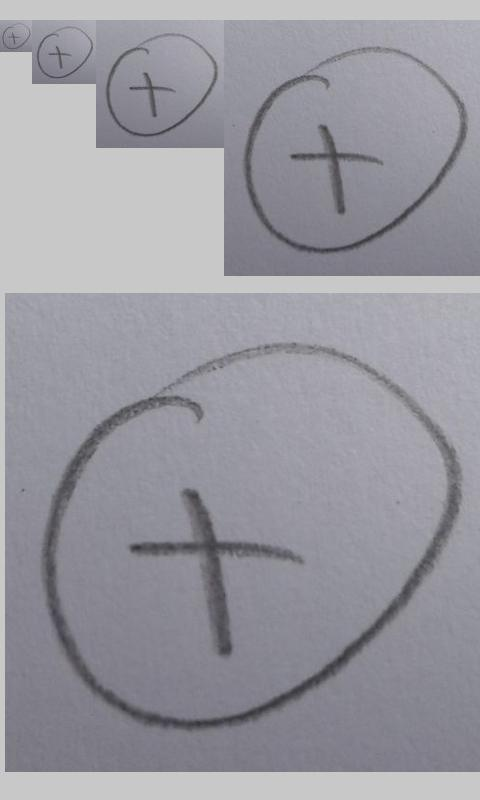button: (39, 339, 463, 730), (242, 45, 467, 254), (106, 32, 218, 137), (36, 26, 93, 79), (2, 22, 31, 50)
